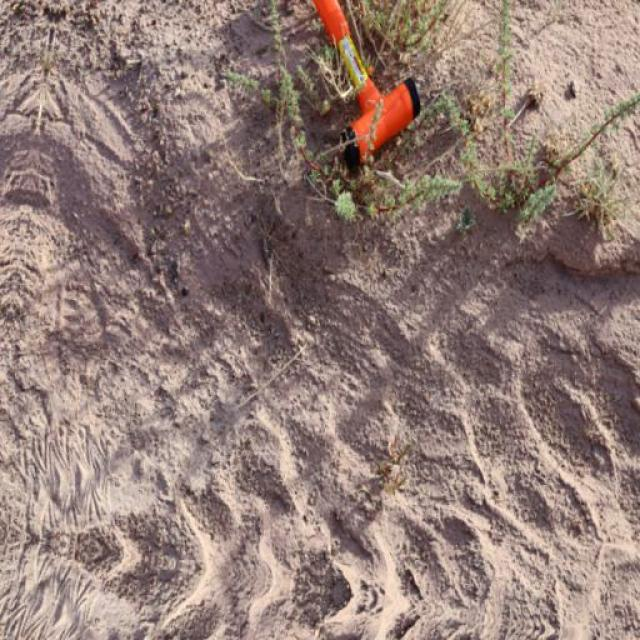mallet: (312, 0, 424, 172)
